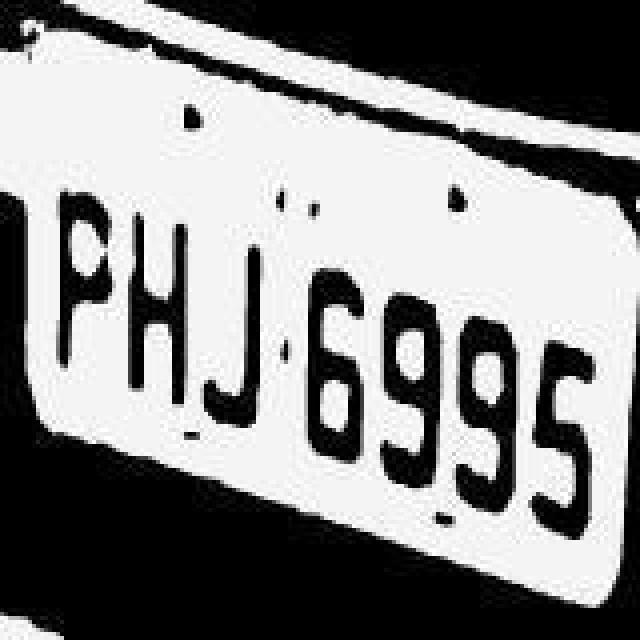5: (528, 342, 608, 554)
6: (290, 260, 366, 476)
9: (450, 304, 526, 528), (374, 288, 450, 504)
H: (122, 206, 198, 418)
J: (194, 238, 278, 434)
P: (42, 182, 118, 386)
